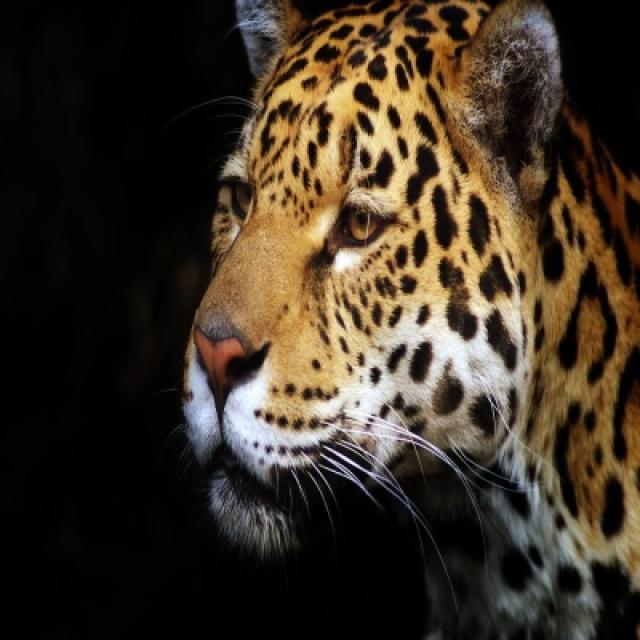Jaguar: (181, 0, 638, 638)
